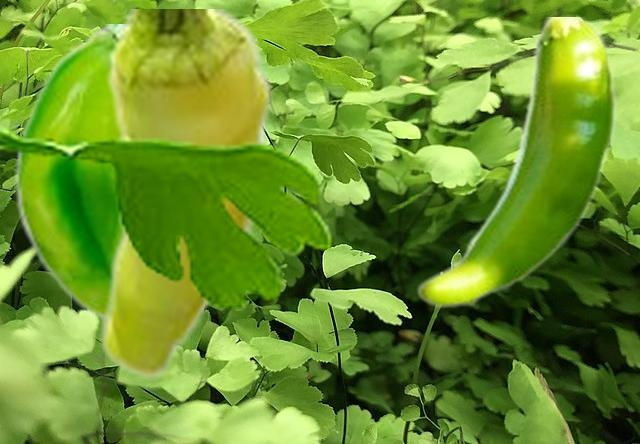green_chili: (14, 24, 266, 323), (98, 9, 273, 379), (415, 17, 616, 308)
